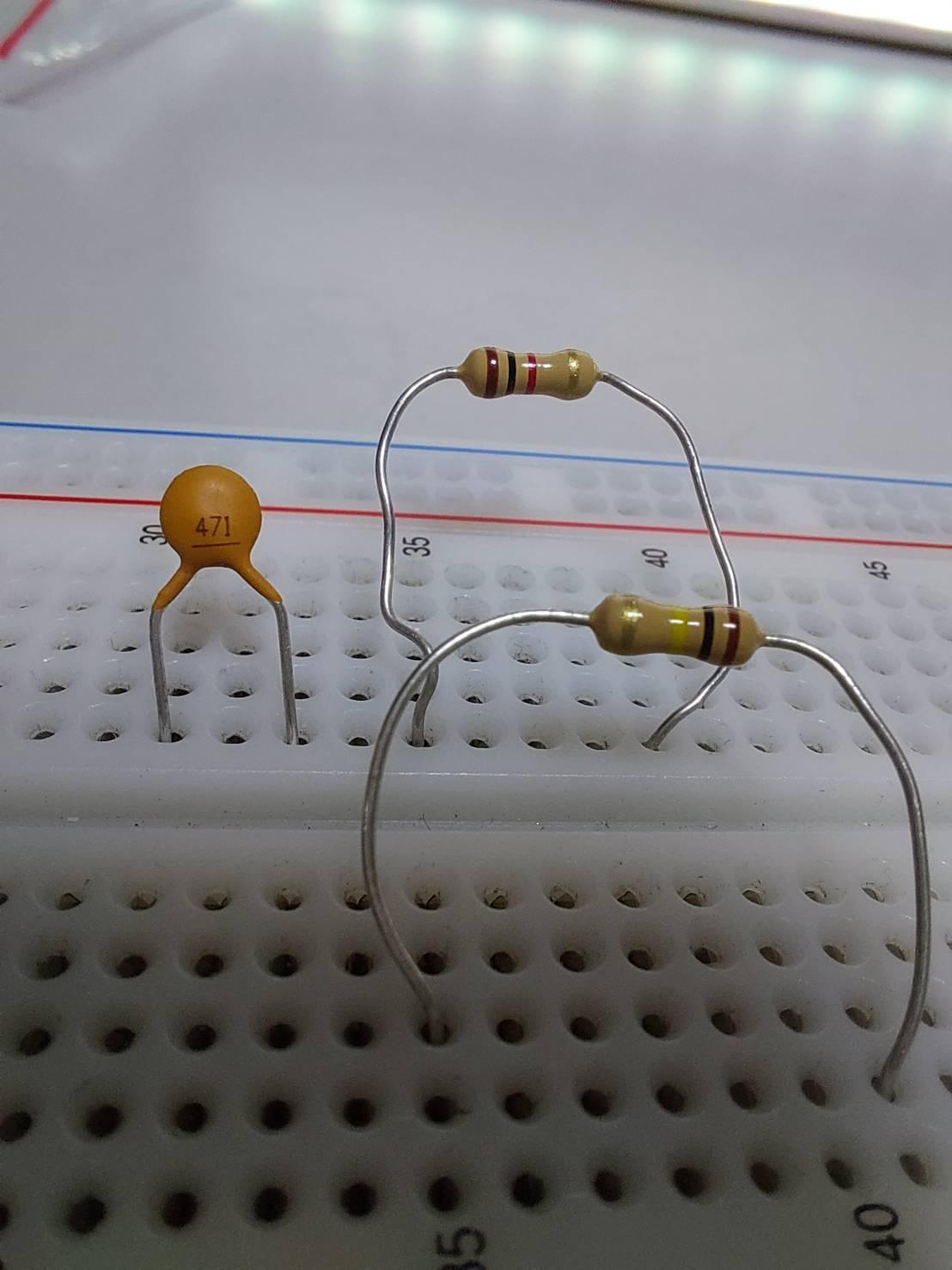resistor: (585, 586, 767, 666), (458, 343, 599, 402)
